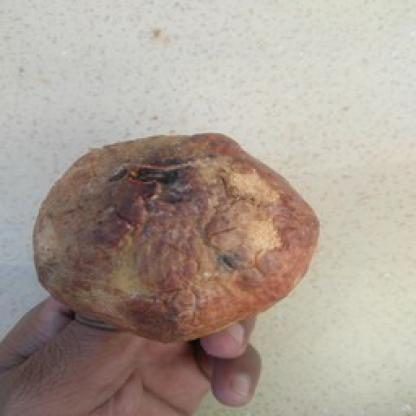guava_rotten: (24, 128, 325, 344)
